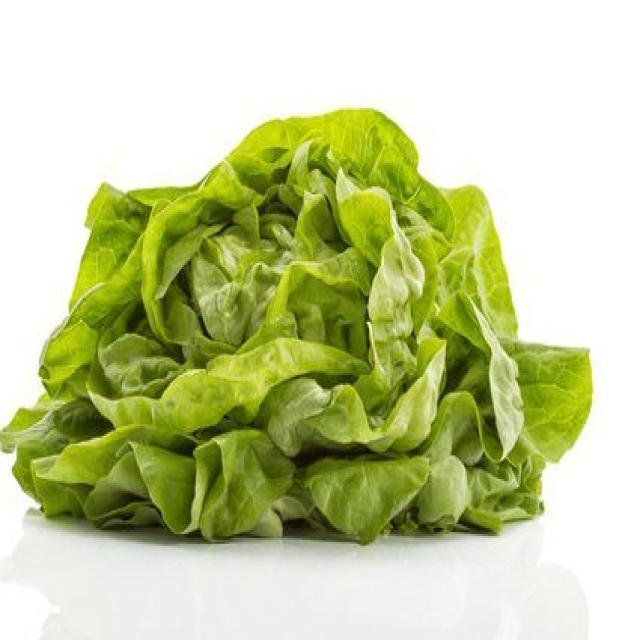lettuce: (0, 110, 591, 541)
